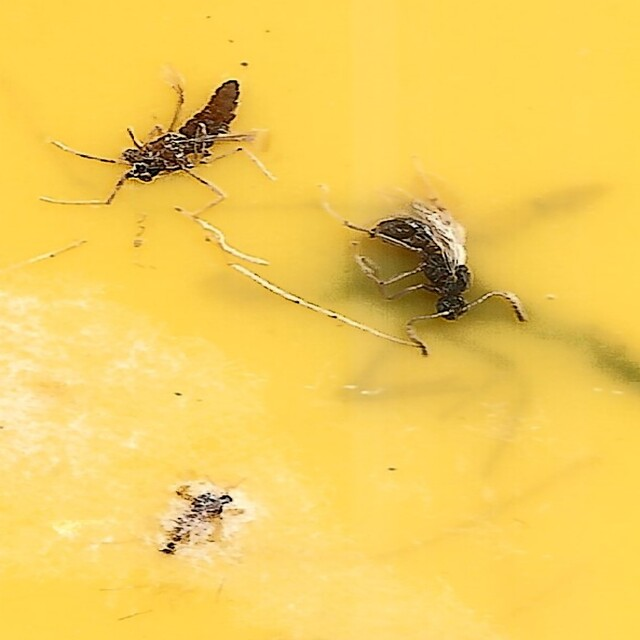Hymenoptera: (352, 200, 532, 359)
Nematocera: (108, 77, 260, 196), (154, 481, 254, 563)
